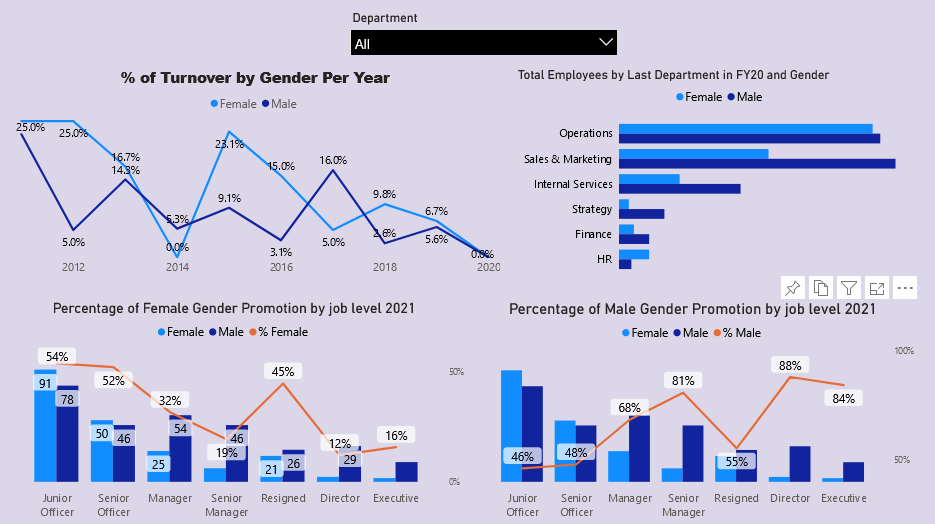

The dashboard page shown, as its layout file describes it:
{"tool":"powerbi","page":{"name":"Page 2","canvas":[1280,720],"ordinal":1},"visuals":[{"type":"lineClusteredColumnComboChart","title":"Percentage of Male Gender Promotion by job level 2021","fields":{"Category":["Pharma Group D&I Data.Job Level after FY21 promotions"],"Y2":["Calculations.% Male"],"Series":["Pharma Group D&I Data.Gender"],"Y":["CountNonNull(Pharma Group D&I Data.Employee ID)"]},"box":[640,413.2,614.8,307.4],"z":0},{"type":"lineClusteredColumnComboChart","title":"Percentage of Female Gender Promotion by job level 2021","fields":{"Y":["Pharma Group D&I Data.Total Employees"],"Category":["Pharma Group D&I Data.Job Level after FY21 promotions"],"Series":["Pharma Group D&I Data.Gender"],"Y2":["Calculations.% Female"]},"box":[0,413.2,640,307.4],"z":1000},{"type":"lineChart","title":"% of Turnover by Gender Per Year","fields":{"Category":["Pharma Group D&I Data.Hire Date.Variation.Date Hierarchy.Year"],"Y":["Calculations.% of Turnover"],"Series":["Pharma Group D&I Data.Gender"]},"box":[8.4,94.1,680.3,294],"z":2000},{"type":"slicer","fields":{"Values":["Pharma Group D&I Data.Last Department in FY20"]},"box":[468.7,11.8,384.7,68.9],"z":3000},{"type":"clusteredBarChart","fields":{"Category":["Pharma Group D&I Data.Last Department in FY20"],"Y":["Pharma Group D&I Data.Total Employees"],"Series":["Pharma Group D&I Data.Gender"]},"box":[702.2,94.1,564.4,295.6],"z":4000}]}

Visuals, with their boxes in screenshot pixels (x1, y1, x2, y2), scaled from the page's 1280x720 canvas onto the 935x524 screenshot:
"Percentage of Male Gender Promotion by job level 2021" lineClusteredColumnComboChart: x1=468, y1=301, x2=917, y2=523
"Percentage of Female Gender Promotion by job level 2021" lineClusteredColumnComboChart: x1=0, y1=301, x2=468, y2=523
"% of Turnover by Gender Per Year" lineChart: x1=6, y1=68, x2=503, y2=282
slicer - Pharma Group D&I Data.Last Department in FY20: x1=342, y1=9, x2=623, y2=59
clusteredBarChart - Pharma Group D&I Data.Last Department in FY20 x Pharma Group D&I Data.Total Employees: x1=513, y1=68, x2=925, y2=284
